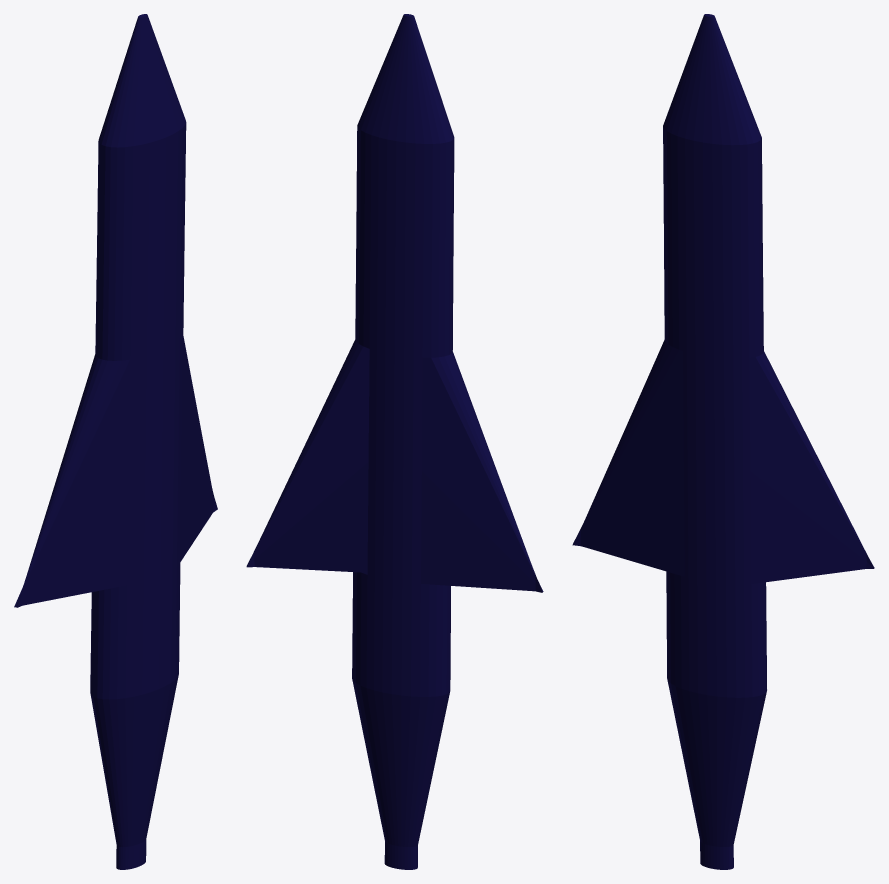
File: Missile.obj
The picture shows the model from 3 angles, left to right: view 1: azimuth 30°, elevation 25°; view 2: azimuth 150°, elevation 25°; view 3: azimuth 330°, elevation 25°; orthographic projection.
Parts seen in each view (by area): view 1: Cylinder; view 2: Cylinder; view 3: Cylinder.
Boxes of the visible parts, box(x1,y1,x2,y2) form: Cylinder: box(14, 14, 217, 869); Cylinder: box(246, 14, 543, 869); Cylinder: box(572, 14, 874, 869).
Bounding box in the file's own units: 2.3 × 7.44 × 0.9069.
